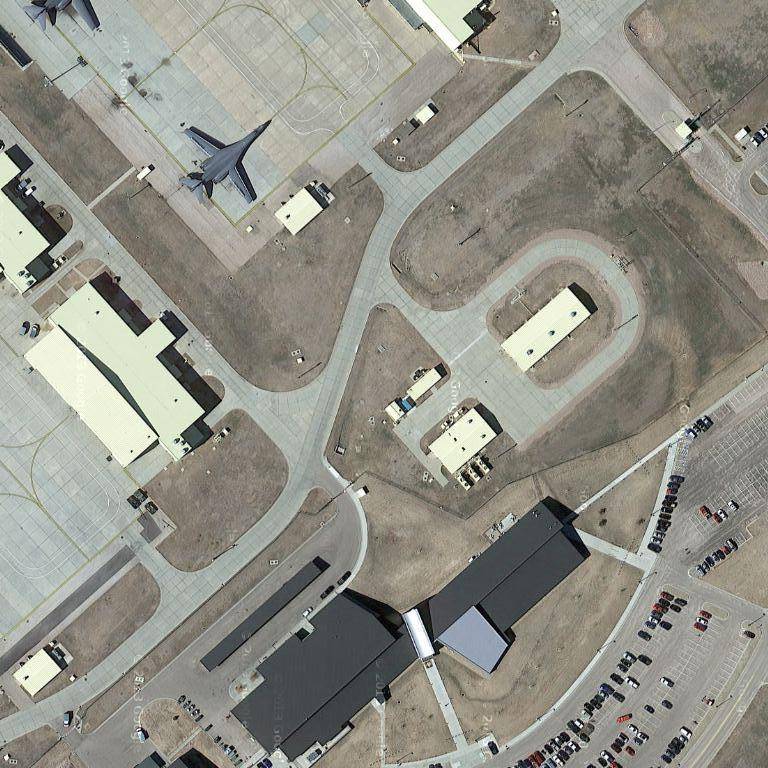B-1B: (179, 116, 273, 208)
